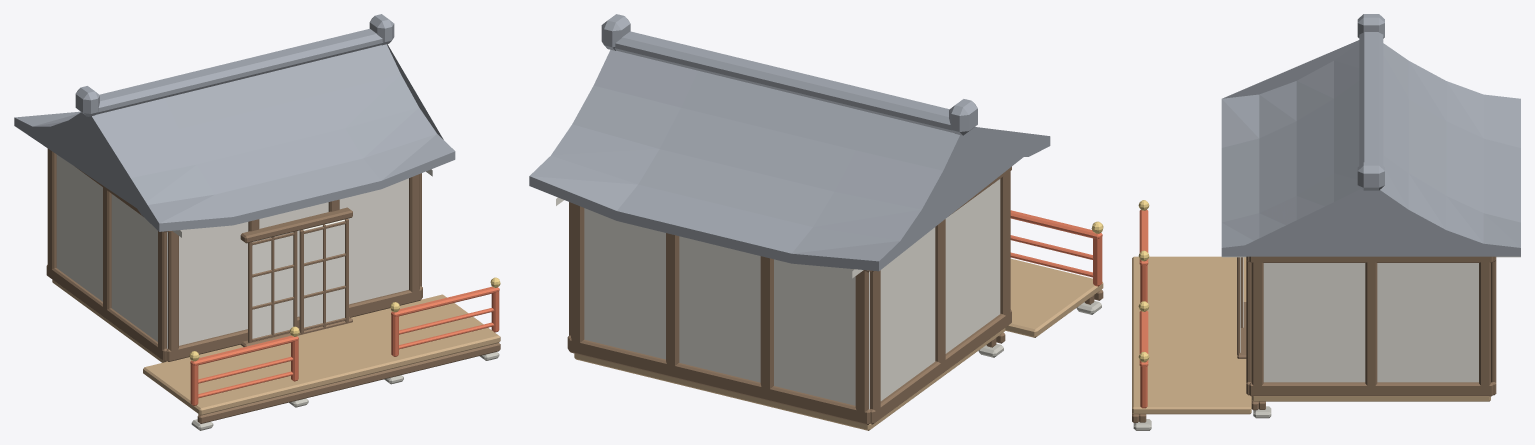
The model's file is shrine-hall.glb.
3 renders of one model, left to right at view 1: azimuth 30°, elevation 25°; view 2: azimuth 150°, elevation 25°; view 3: azimuth 270°, elevation 25°, orthographic. The views are drawn at different scales.
Visible parts, largest first — view 1: shrine-hall; view 2: shrine-hall; view 3: shrine-hall.
Boxes of the visible parts, bbox=[...] form: shrine-hall: bbox=[14, 14, 500, 430]; shrine-hall: bbox=[529, 14, 1103, 430]; shrine-hall: bbox=[1132, 14, 1520, 430].
Bounding box in the file's own units: 6.2 × 4.91 × 6.5.
